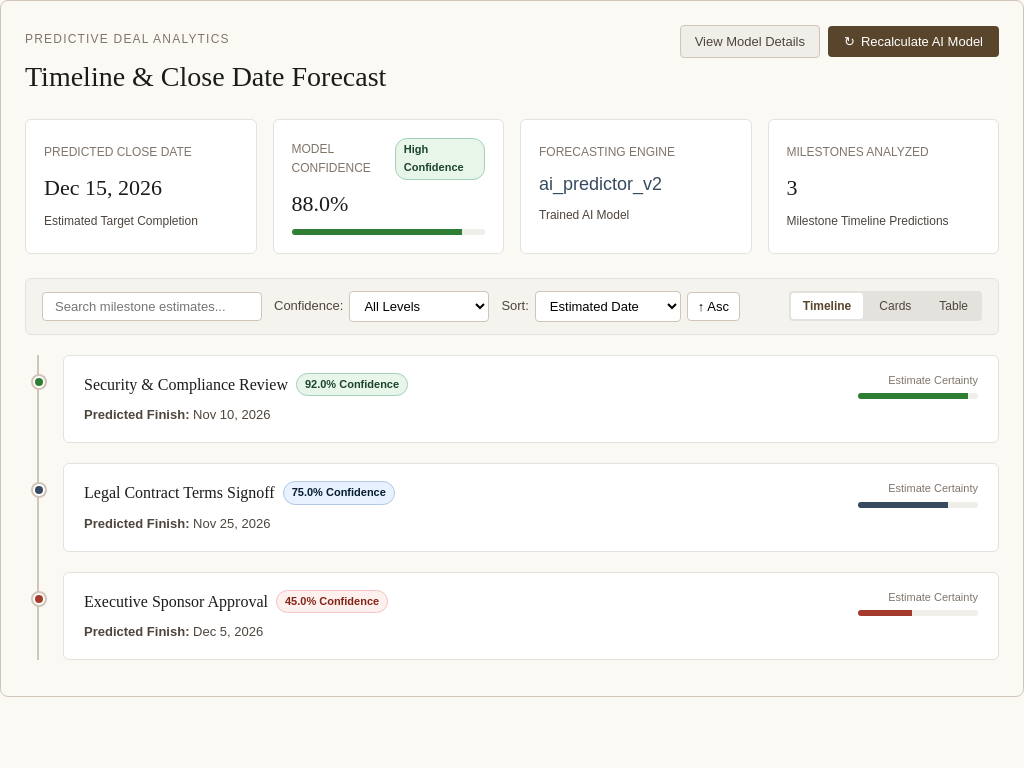
Test case: TimelineForecast Component › Component Rendering & Interactive Behavior › filters estimates using search input and confidence select
Type "Executive" into the field with test id "search-milestone-input" at [152, 306], box [42,292,262,321]
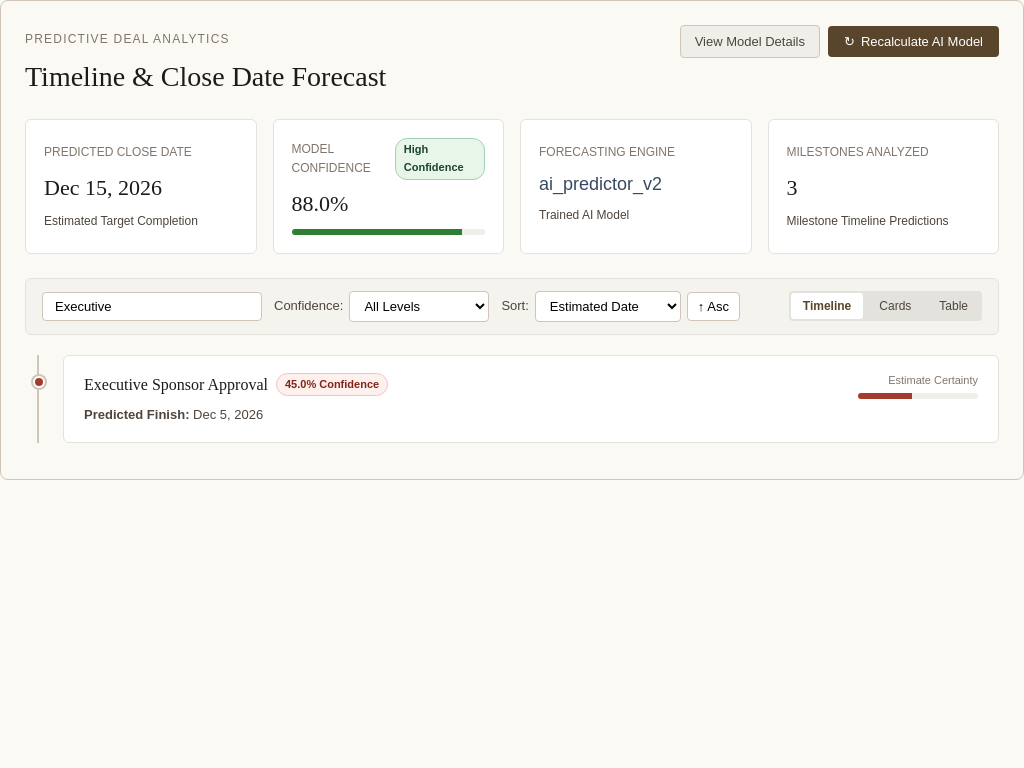
expect the heading "Executive Sponsor Approval" is shown: met, box [84,372,268,397]
expect the heading "Security & Compliance Review" is gone: met
// Reset search, set high confidence filter
Clear the field with test id "search-milestone-input" at [152, 306], box [42,292,262,321]
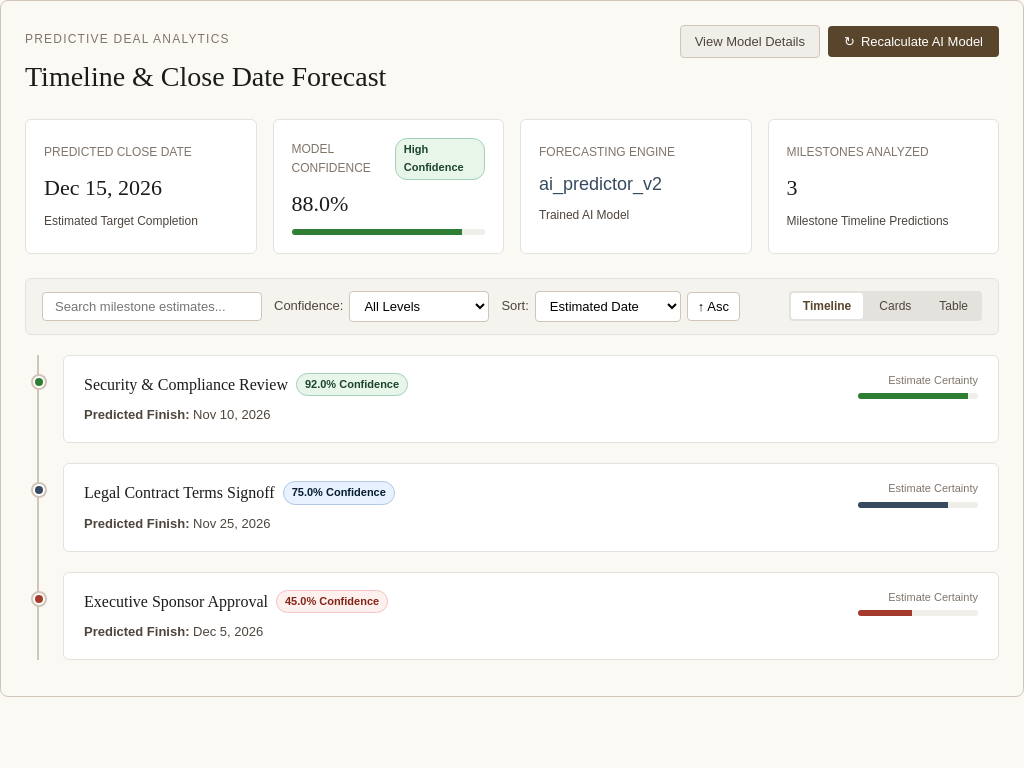
Select "≥ 80% High Only" in the dropdown with test id "confidence-filter-select" at [419, 306], box [349,291,489,322]
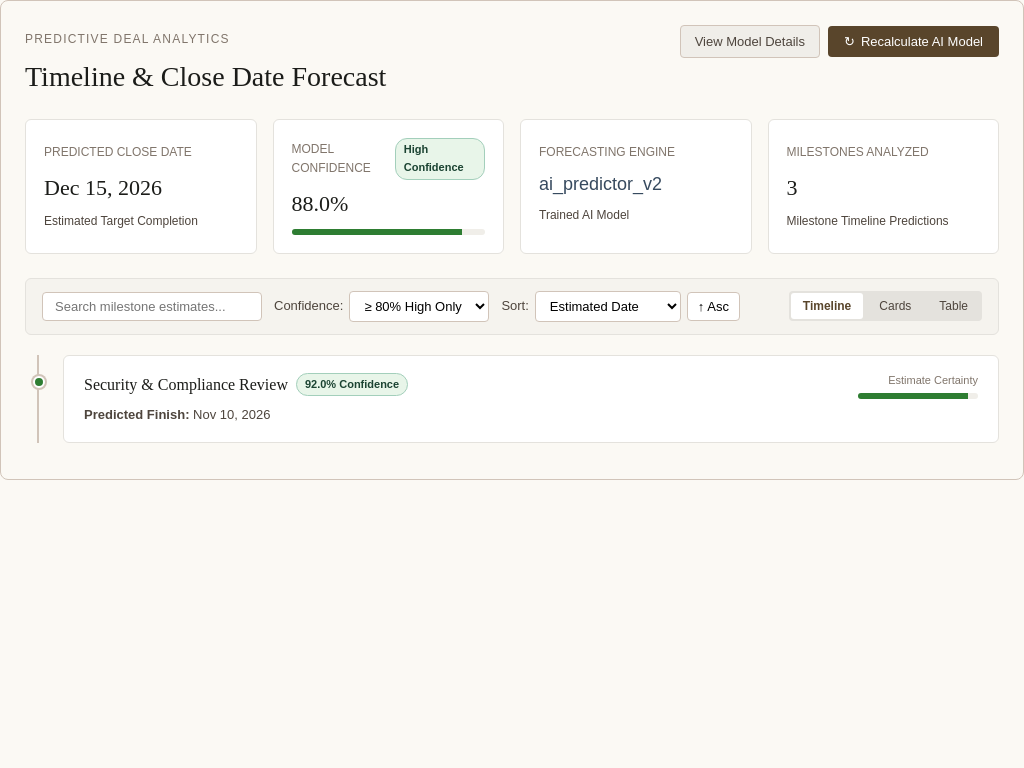
expect the heading "Security & Compliance Review" is shown: met, box [84,372,288,397]
expect the heading "Executive Sponsor Approval" is gone: met
